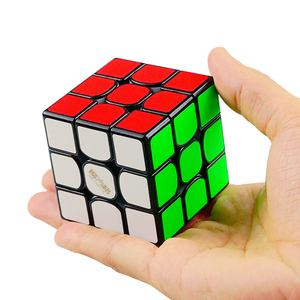cube: (37, 55, 242, 245)
